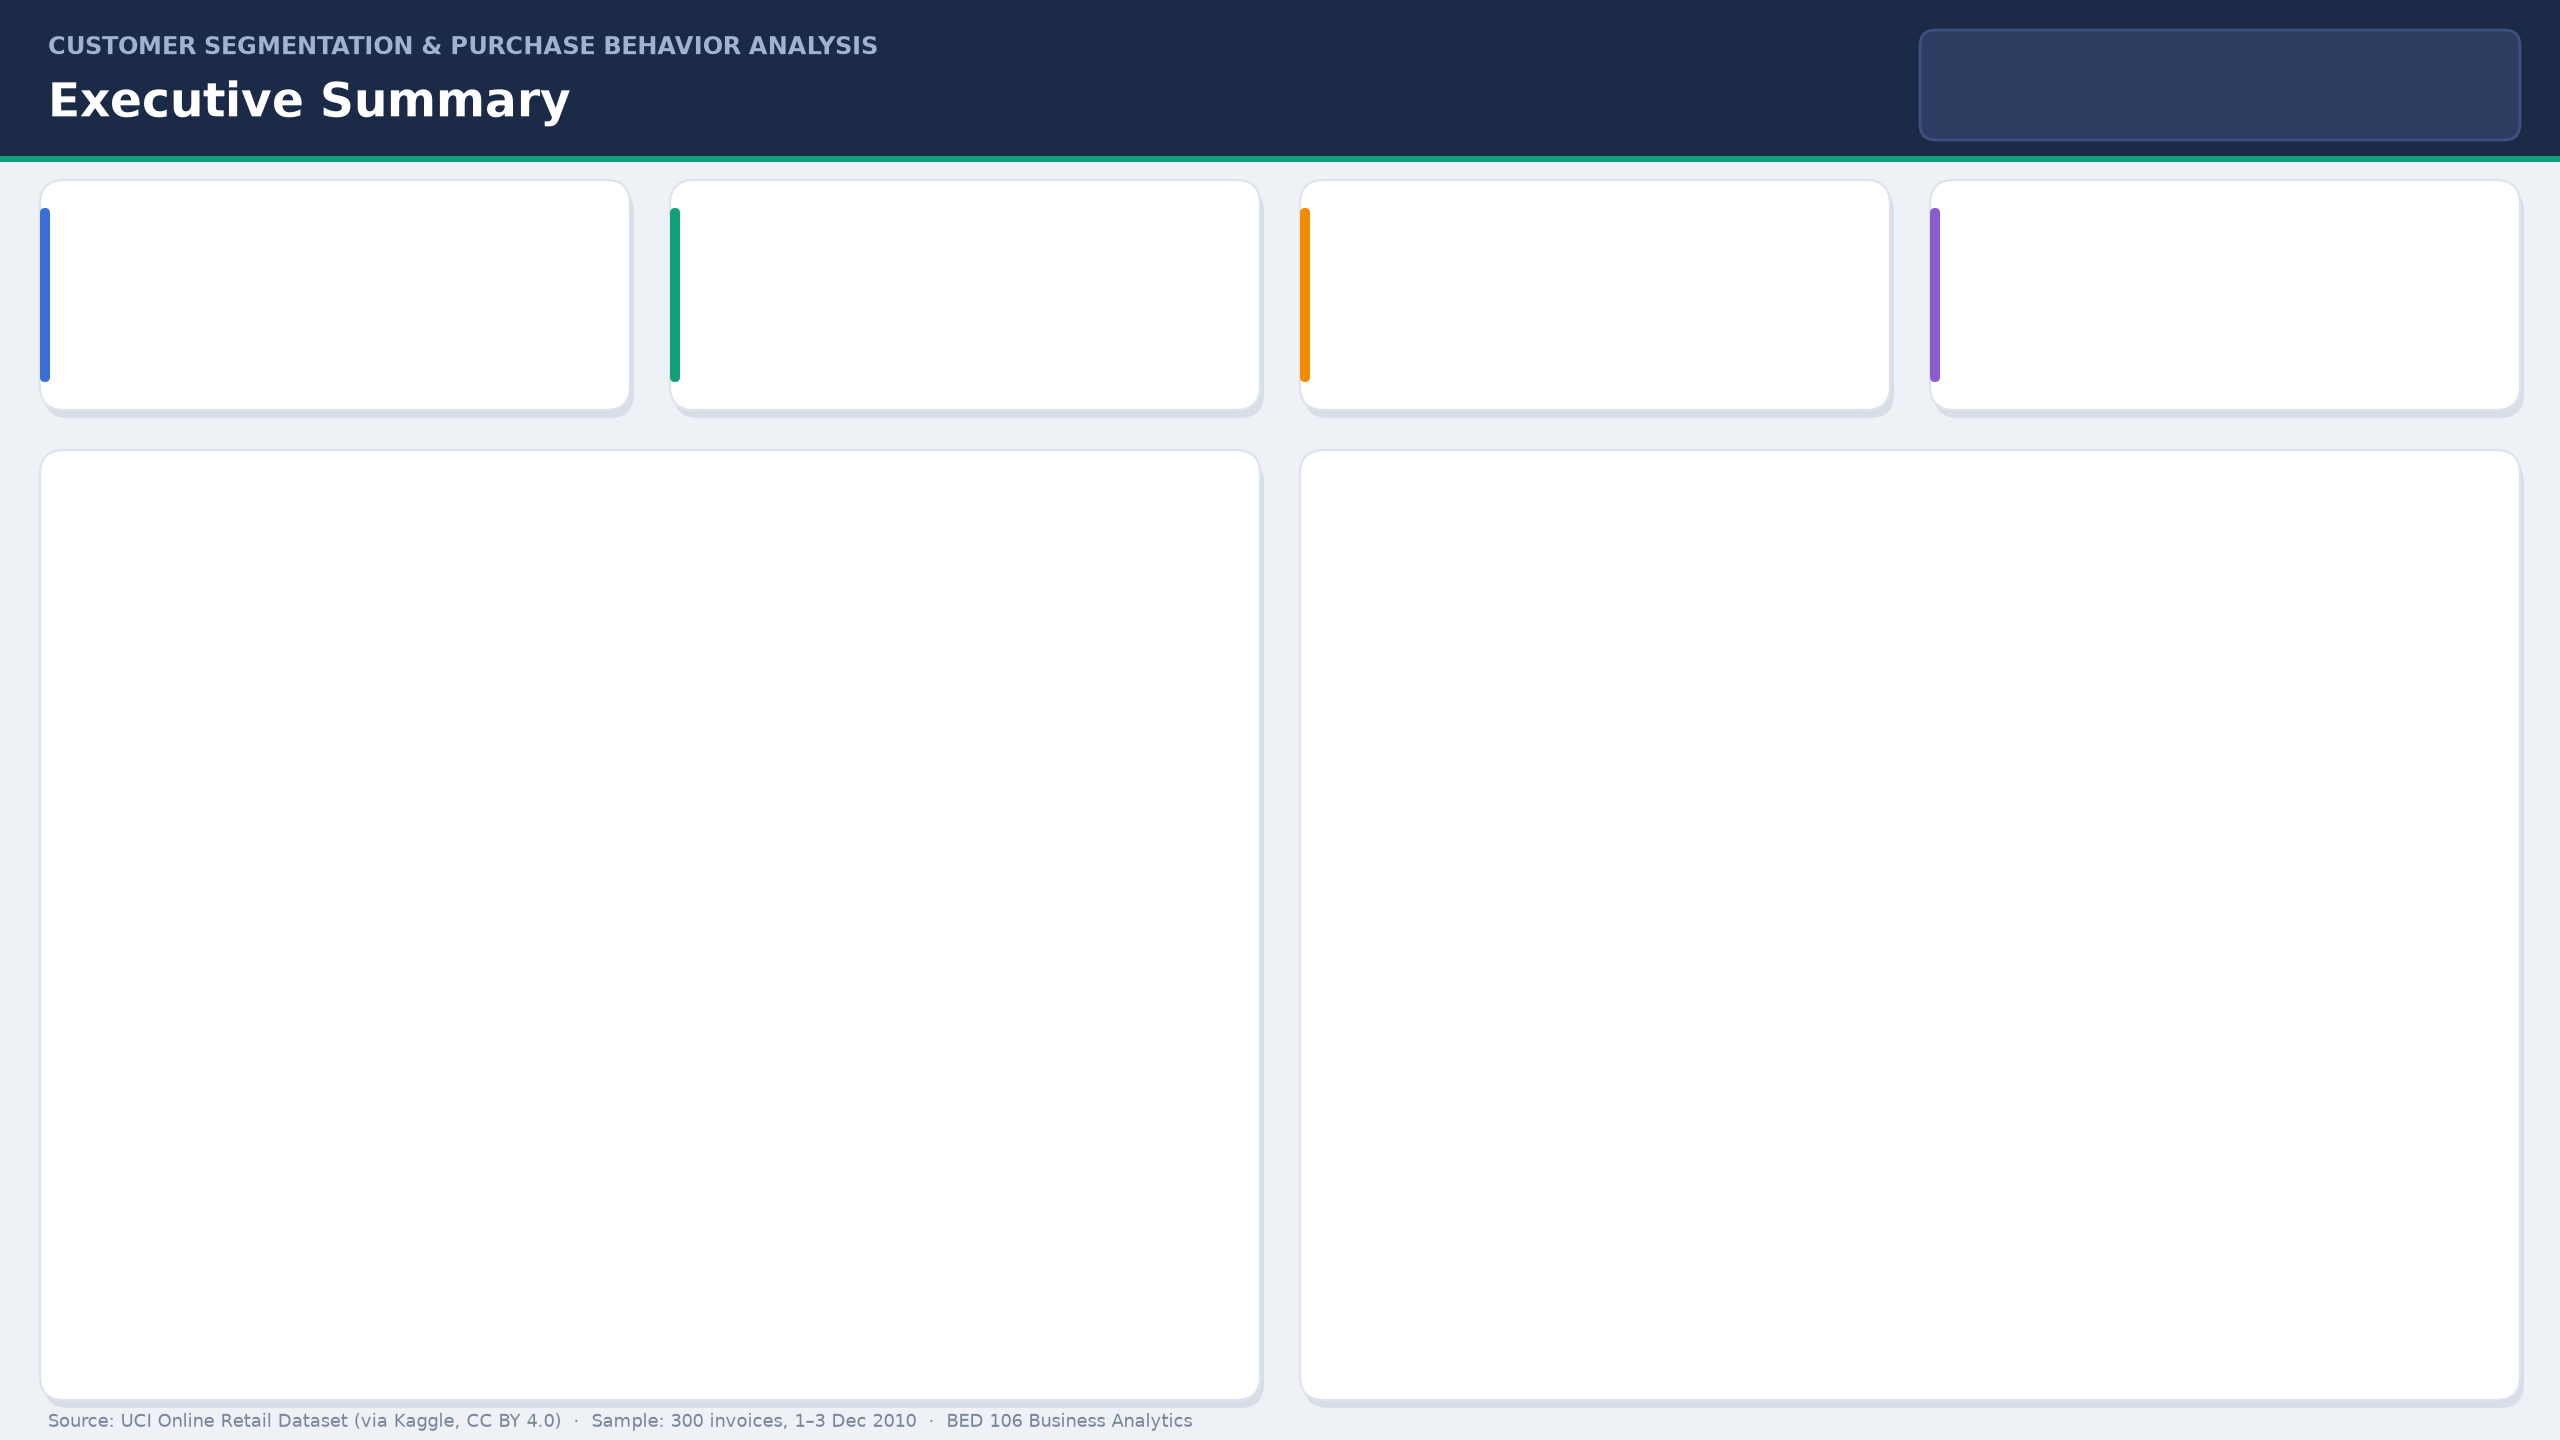

The dashboard page shown, as its layout file describes it:
{"tool":"powerbi","page":{"name":"Page 1 - Executive Summary","canvas":[1280,720],"ordinal":0},"visuals":[{"type":"cardVisual","fields":{"Data":["invoice_items.Total Revenue"]},"box":[20,90,295,115],"z":0},{"type":"cardVisual","fields":{"Data":["invoice_items.Total Orders"]},"box":[334.3,90,295,115],"z":1000},{"type":"cardVisual","fields":{"Data":["invoice_items.Total Customers"]},"box":[650,88.6,295,115],"z":2000},{"type":"cardVisual","fields":{"Data":["invoice_items.Avg Order Value"]},"box":[967.1,90,295,115],"z":3000},{"type":"clusteredBarChart","title":"Revenue by Country","fields":{"Category":["customers.country"],"Y":["invoice_items.Total Revenue"]},"box":[20.7,222.5,608.9,470.9],"z":4000},{"type":"clusteredBarChart","title":"Top 10 Products by Revenue","fields":{"Category":["products.description"],"Y":["invoice_items.Total Revenue"]},"box":[650.4,222.5,612.4,470.9],"z":5000},{"type":"textbox","box":[20,11.7,875,68.3],"z":6000},{"type":"slicer","fields":{"Values":["customers.country"]},"box":[961.7,11.7,300,56.7],"z":7000}]}

Visuals, with their boxes in screenshot pixels (x1, y1, x2, y2), scaled from the page's 1280x720 canvas onto the 2560x1440 screenshot:
cardVisual - invoice_items.Total Revenue: bbox=(40, 180, 630, 410)
cardVisual - invoice_items.Total Orders: bbox=(669, 180, 1259, 410)
cardVisual - invoice_items.Total Customers: bbox=(1300, 177, 1890, 407)
cardVisual - invoice_items.Avg Order Value: bbox=(1934, 180, 2524, 410)
"Revenue by Country" clusteredBarChart: bbox=(41, 445, 1259, 1387)
"Top 10 Products by Revenue" clusteredBarChart: bbox=(1301, 445, 2526, 1387)
textbox: bbox=(40, 23, 1790, 160)
slicer - customers.country: bbox=(1923, 23, 2523, 137)
